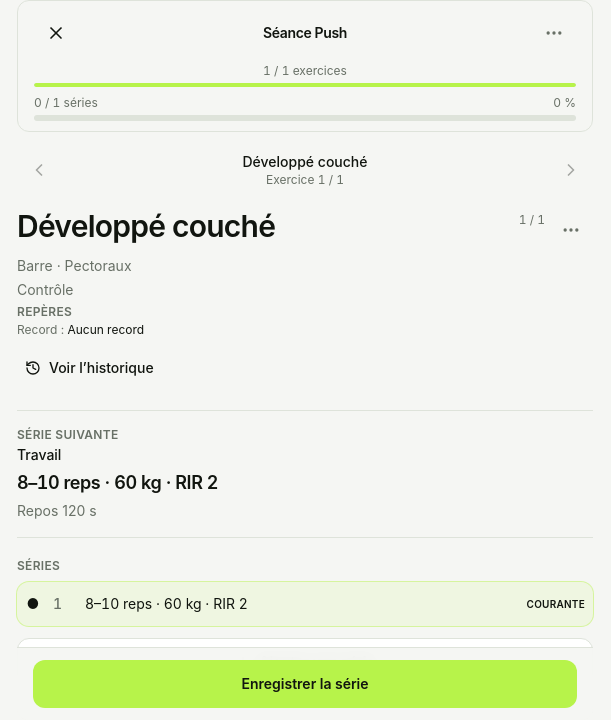
Test: Workout lifecycle UI (3.3) › redirige /workouts/:id vers /workouts/active si la séance est encore active
Expected: the heading "Séance Push" is shown, [263, 24, 347, 41]
Click the button named "Actions de séance": (554, 33) [532, 11, 576, 55]
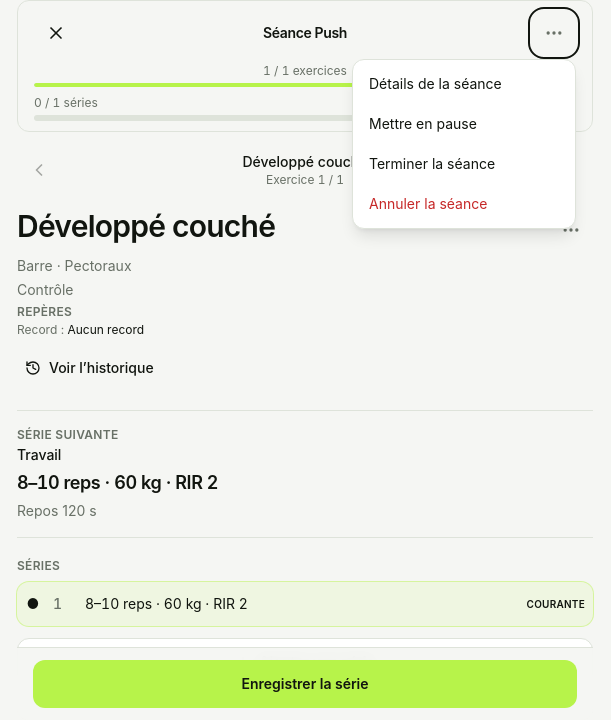
Expected: the menu item "Mettre en pause" is shown, [357, 104, 571, 144]
